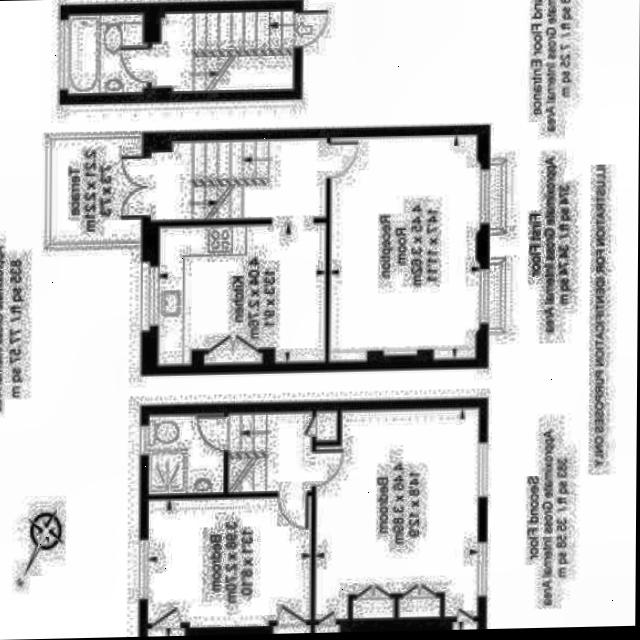room: (158, 136, 326, 365), (316, 407, 479, 634), (330, 134, 477, 360), (145, 497, 313, 637), (51, 137, 141, 244), (68, 12, 143, 93), (151, 412, 224, 494)
